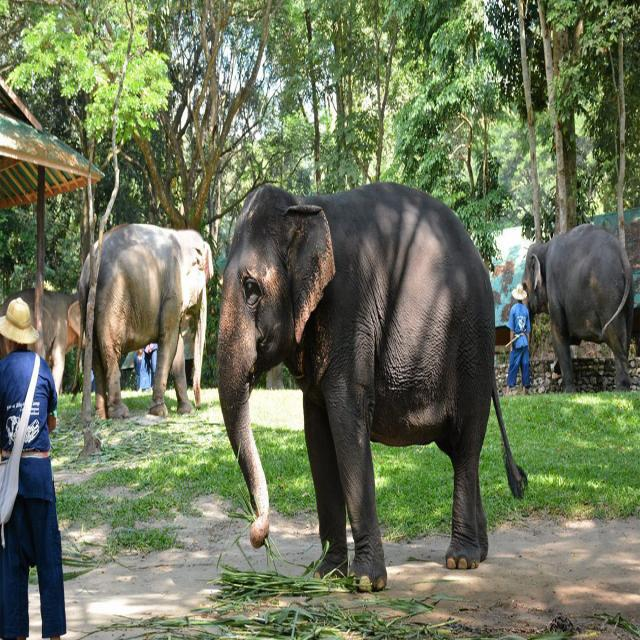Elephant: (212, 166, 502, 605), (71, 192, 210, 432), (524, 218, 640, 406)
